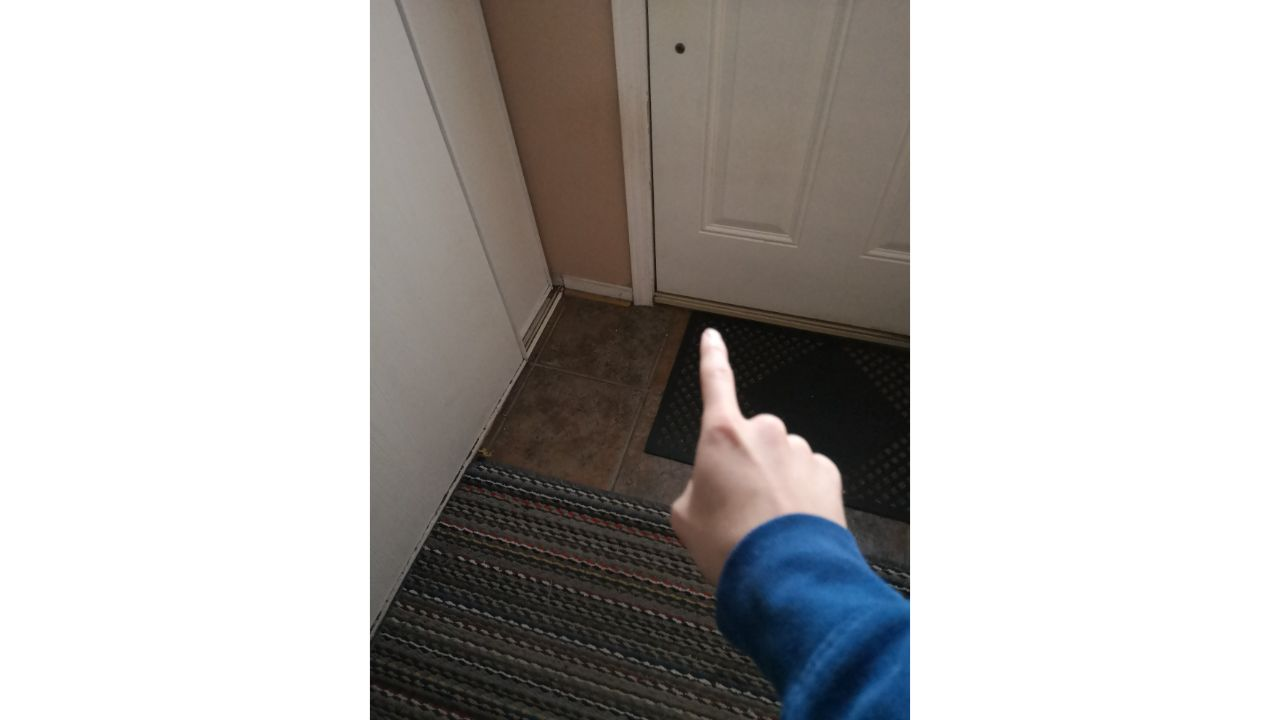finger: (664, 321, 854, 563)
